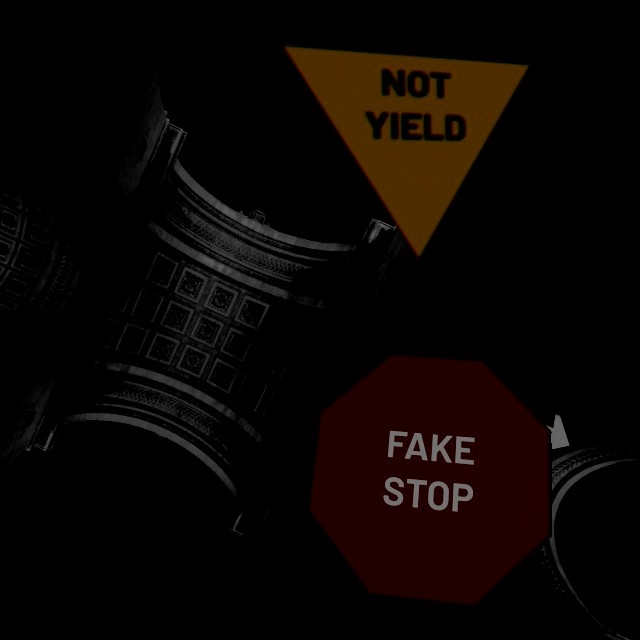FAKE_STOP: (307, 353, 552, 608)
NOT_YIELD: (279, 43, 534, 263)
ONE_WAY_ right: (470, 403, 597, 455)
